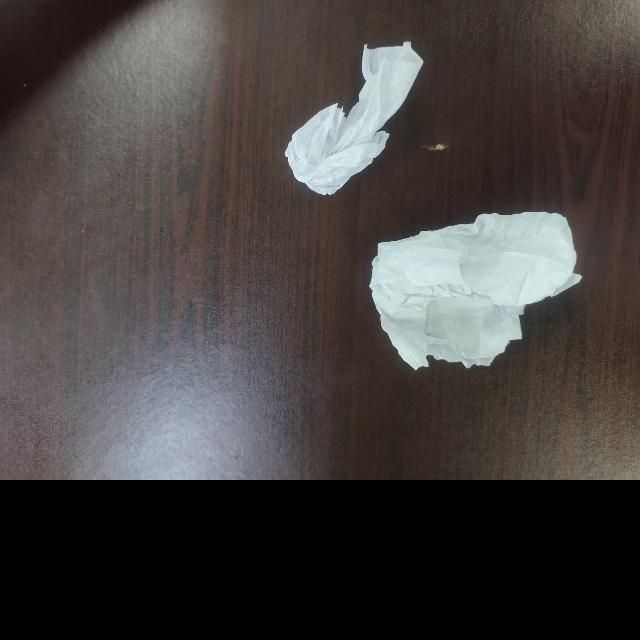kitchen paper: (363, 202, 588, 378), (284, 31, 428, 201)
